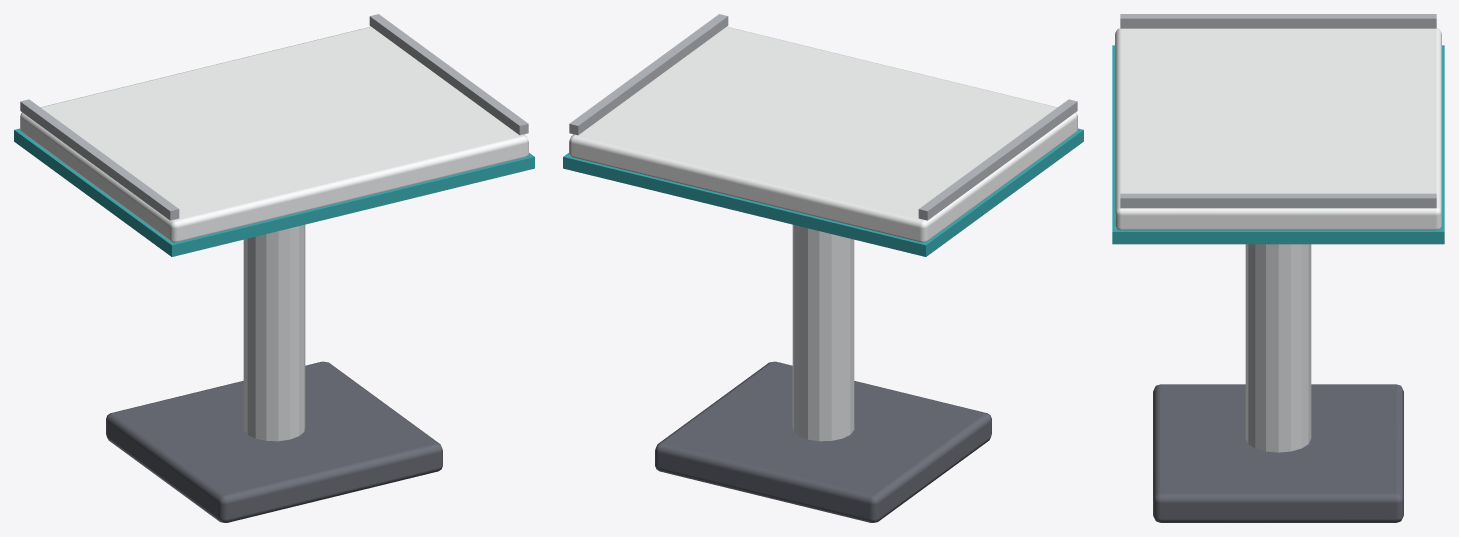
The picture shows the model from 3 angles, left to right: view 1: azimuth 30°, elevation 25°; view 2: azimuth 150°, elevation 25°; view 3: azimuth 270°, elevation 25°; orthographic projection. The views are drawn at different scales.
Visible parts, largest first — view 1: instrument-table; view 2: instrument-table; view 3: instrument-table.
Part boxes in pixels (x1=…): instrument-table: x1=14, y1=14, x2=534, y2=522; instrument-table: x1=563, y1=14, x2=1083, y2=522; instrument-table: x1=1112, y1=14, x2=1444, y2=522.
Bounding box in the file's own units: 0.81 × 0.733 × 0.6101.
